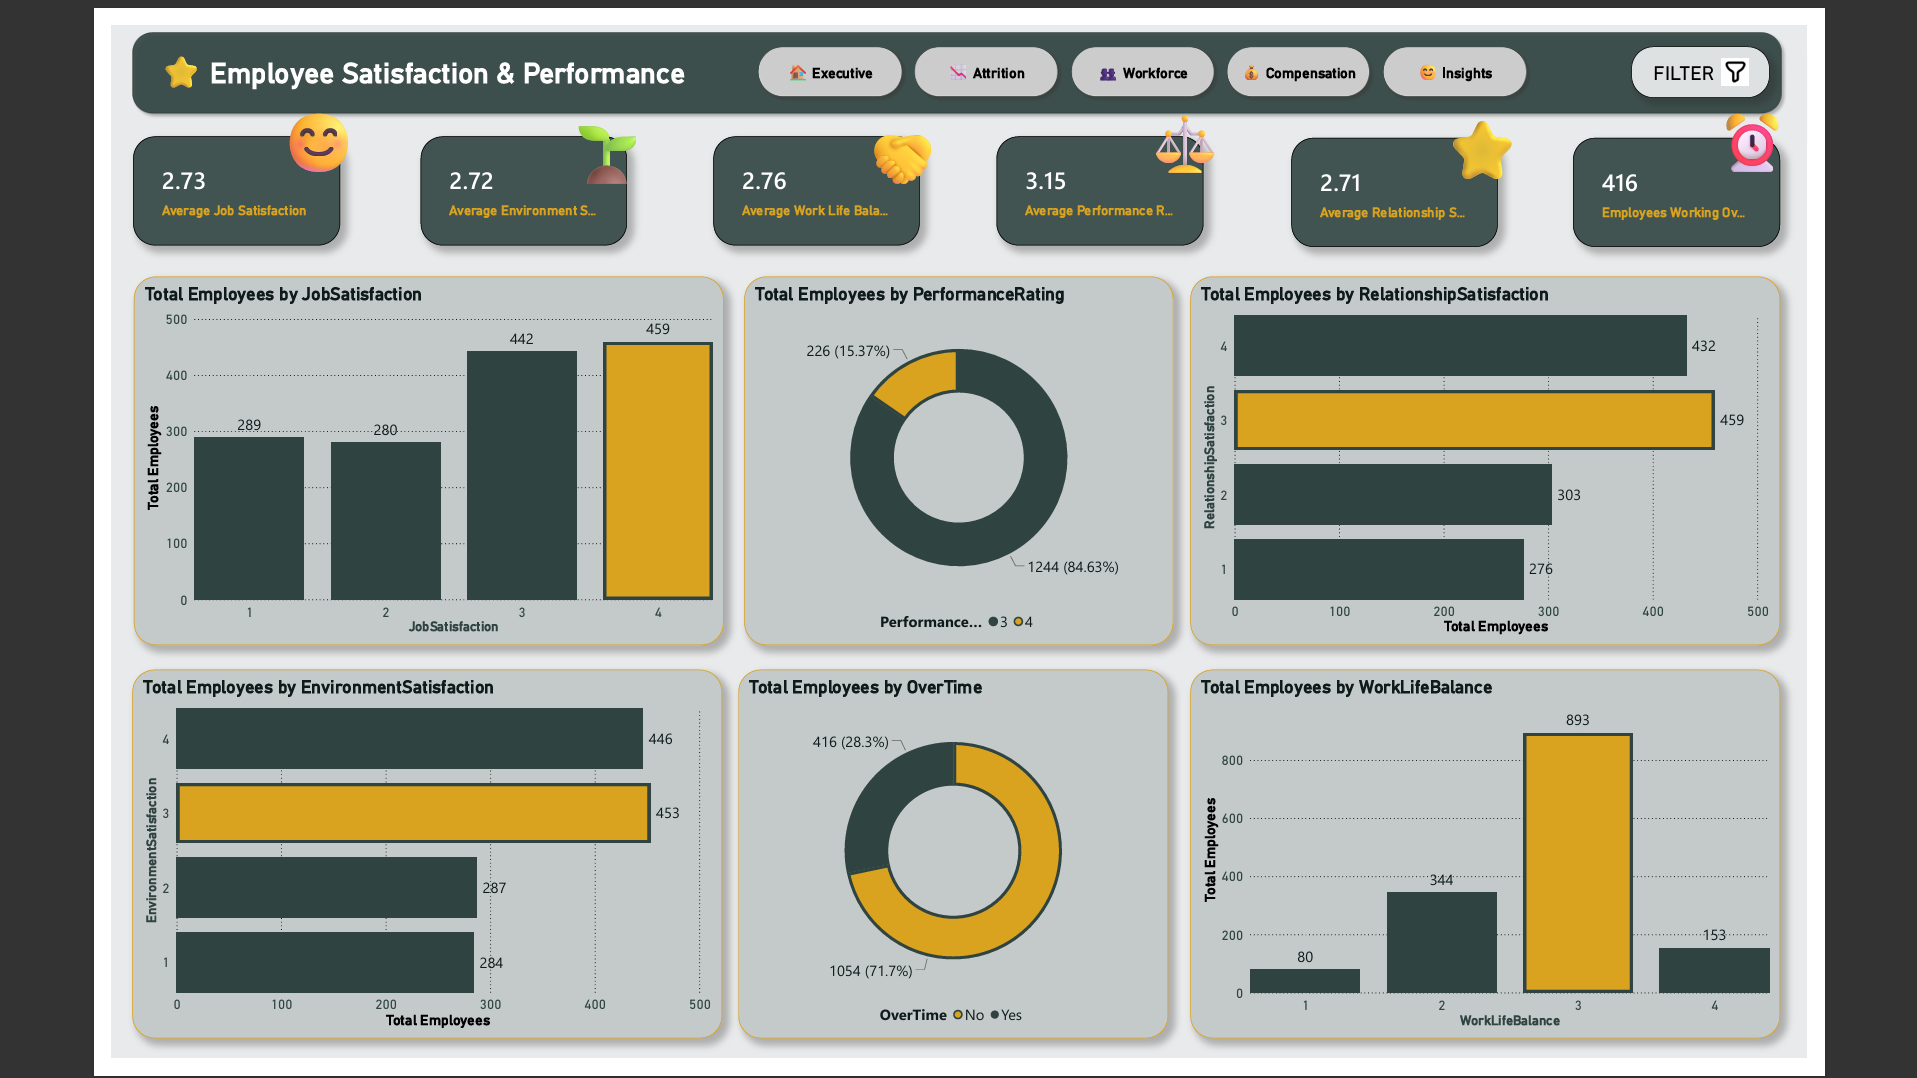

What the dashboard file says about the page in this screenshot:
{"tool":"powerbi","page":{"name":"Employee Satisfaction & Performance","canvas":[2300,1400],"ordinal":4},"visuals":[{"type":"group","id":"g1","title":"Group 1","box":[19.4,0,2254.9,128.2],"z":0},{"type":"shape","box":[19.4,0,2254.9,128.2],"z":0,"group":"g1"},{"type":"actionButton","box":[2061.2,27.6,187.7,70.1],"z":0,"group":"g2"},{"type":"actionButton","box":[867.5,20,213,85],"z":1000,"group":"g3"},{"type":"image","box":[2157.4,43.5,90.9,36.9],"z":1000,"group":"g2"},{"type":"clusteredColumnChart","fields":{"Category":["HR-Employee.JobSatisfaction"],"Y":["HR-Employee.Total Employees"]},"box":[30,340,800,500],"z":1000},{"type":"actionButton","box":[1080,20,211.9,85],"z":2000,"group":"g3"},{"type":"group","id":"g2","title":"Open","box":[2061.2,27.6,187.1,75],"z":2000,"group":"g1"},{"type":"clusteredColumnChart","fields":{"Category":["HR-Employee.WorkLifeBalance"],"Y":["HR-Employee.Total Employees"]},"box":[1462.5,872.5,800,500],"z":2000},{"type":"actionButton","box":[1292.2,20,211.2,85],"z":3000,"group":"g3"},{"type":"donutChart","fields":{"Y":["HR-Employee.Total Employees"],"Category":["HR-Employee.PerformanceRating"]},"box":[857.5,340,582.5,500],"z":3000},{"type":"actionButton","box":[1503.4,20,211.2,85],"z":4000,"group":"g3"},{"type":"textbox","box":[60.7,26.5,752.5,70.3],"z":4000,"group":"g1"},{"type":"clusteredBarChart","fields":{"Y":["HR-Employee.Total Employees"],"Category":["HR-Employee.EnvironmentSatisfaction"]},"box":[27.5,872.5,800,500],"z":4000},{"type":"actionButton","box":[1715.6,20,211.9,85],"z":5000,"group":"g3"},{"type":"clusteredBarChart","fields":{"Y":["HR-Employee.Total Employees"],"Category":["HR-Employee.RelationshipSatisfaction"]},"box":[1462.5,340,800,500],"z":5000},{"type":"donutChart","fields":{"Category":["HR-Employee.OverTime"],"Y":["HR-Employee.Total Employees"]},"box":[850,873.3,583.3,500],"z":6000},{"type":"group","id":"g3","title":"Group 1","box":[867.5,20,1060,85],"z":8000},{"type":"group","id":"g4","title":"Group 2","box":[29,81,2245.8,219.1],"z":9000},{"type":"cardVisual","fields":{"Data":["HR-Employee.Average Job Satisfaction"]},"box":[29,150.1,280.7,147.6],"z":15000,"group":"g4"},{"type":"cardVisual","fields":{"Data":["HR-Employee.Average Environment Satisfaction"]},"box":[418.6,150.1,280.7,147.6],"z":16000,"group":"g4"},{"type":"cardVisual","fields":{"Data":["HR-Employee.Average Work Life Balance"]},"box":[815.5,150.1,280.7,147.6],"z":17000,"group":"g4"},{"type":"cardVisual","fields":{"Data":["HR-Employee.Average Performance Rating"]},"box":[1200.3,150.1,280.7,147.6],"z":18000,"group":"g4"},{"type":"cardVisual","fields":{"Data":["HR-Employee.Average Relationship Satisfaction"]},"box":[1599.6,152.5,280.7,147.6],"z":19000,"group":"g4"},{"type":"cardVisual","fields":{"Data":["HR-Employee.Employees Working Overtime"]},"box":[1982,152.5,280.7,147.6],"z":20000,"group":"g4"},{"type":"textbox","box":[220.8,95.7,257.7,130.1],"z":20500,"group":"g4"},{"type":"textbox","box":[613.5,95.7,255.2,162],"z":21000,"group":"g4"},{"type":"textbox","box":[1013.5,95.7,257.7,162],"z":21500,"group":"g4"},{"type":"textbox","box":[1396.3,81,257.7,162],"z":22000,"group":"g4"},{"type":"textbox","box":[1798.7,105.5,255.2,162],"z":22500,"group":"g4"},{"type":"textbox","box":[2164.4,81,110.4,162],"z":23000,"group":"g4"}]}

Visuals, with their boxes on the page's 2300x1400 design canvas (x1, y1, x2, y2). These are canvas units, not pixel positions in the 1917x1078 screenshot, which may show the page scaled, cropped or inside an application window:
"Group 1" group: [19, 0, 2274, 128]
shape: [19, 0, 2274, 128]
actionButton: [2061, 28, 2249, 98]
actionButton: [868, 20, 1080, 105]
image: [2157, 44, 2248, 80]
clusteredColumnChart - HR-Employee.JobSatisfaction x HR-Employee.Total Employees: [30, 340, 830, 840]
actionButton: [1080, 20, 1292, 105]
"Open" group: [2061, 28, 2248, 103]
clusteredColumnChart - HR-Employee.WorkLifeBalance x HR-Employee.Total Employees: [1462, 872, 2262, 1372]
actionButton: [1292, 20, 1503, 105]
donutChart - HR-Employee.Total Employees x HR-Employee.PerformanceRating: [858, 340, 1440, 840]
actionButton: [1503, 20, 1715, 105]
textbox: [61, 26, 813, 97]
clusteredBarChart - HR-Employee.Total Employees x HR-Employee.EnvironmentSatisfaction: [28, 872, 828, 1372]
actionButton: [1716, 20, 1928, 105]
clusteredBarChart - HR-Employee.Total Employees x HR-Employee.RelationshipSatisfaction: [1462, 340, 2262, 840]
donutChart - HR-Employee.OverTime x HR-Employee.Total Employees: [850, 873, 1433, 1373]
"Group 1" group: [868, 20, 1928, 105]
"Group 2" group: [29, 81, 2275, 300]
cardVisual - HR-Employee.Average Job Satisfaction: [29, 150, 310, 298]
cardVisual - HR-Employee.Average Environment Satisfaction: [419, 150, 699, 298]
cardVisual - HR-Employee.Average Work Life Balance: [816, 150, 1096, 298]
cardVisual - HR-Employee.Average Performance Rating: [1200, 150, 1481, 298]
cardVisual - HR-Employee.Average Relationship Satisfaction: [1600, 152, 1880, 300]
cardVisual - HR-Employee.Employees Working Overtime: [1982, 152, 2263, 300]
textbox: [221, 96, 478, 226]
textbox: [614, 96, 869, 258]
textbox: [1014, 96, 1271, 258]
textbox: [1396, 81, 1654, 243]
textbox: [1799, 106, 2054, 268]
textbox: [2164, 81, 2275, 243]
